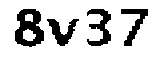3: (82, 4, 116, 55)
7: (116, 4, 152, 52)
8: (5, 3, 45, 51)
v: (44, 14, 82, 48)
